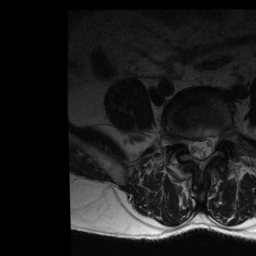CCS_normal: (196, 131, 206, 164)
LFS_normal: (215, 125, 224, 153)
LLS_normal: (206, 130, 214, 158)
RFS_stenosis: (179, 131, 187, 155)
RLS_normal: (188, 132, 196, 163)
